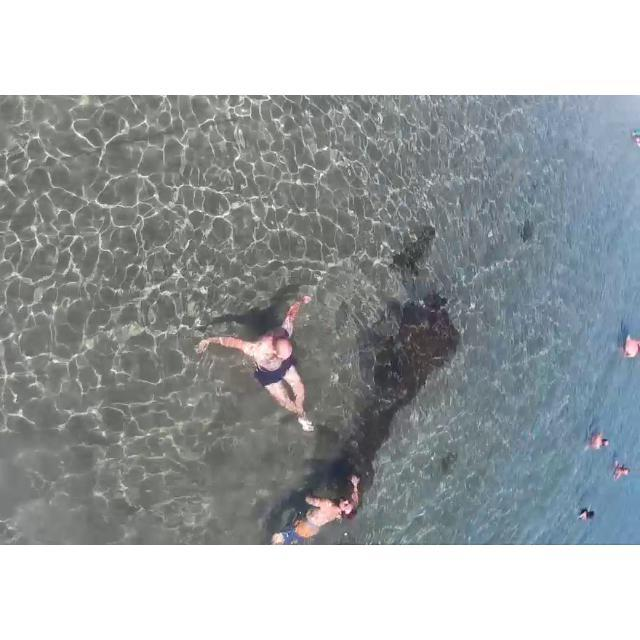human: (182, 289, 318, 443), (573, 500, 601, 534), (623, 315, 639, 371), (584, 424, 610, 456), (610, 460, 627, 479)
